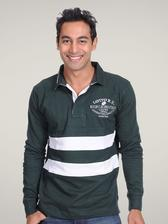clothoes: (20, 66, 146, 217)
